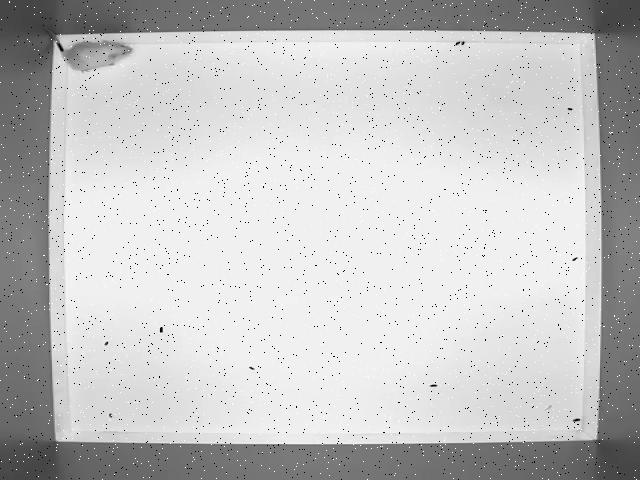Tikus: (40, 24, 132, 74)
